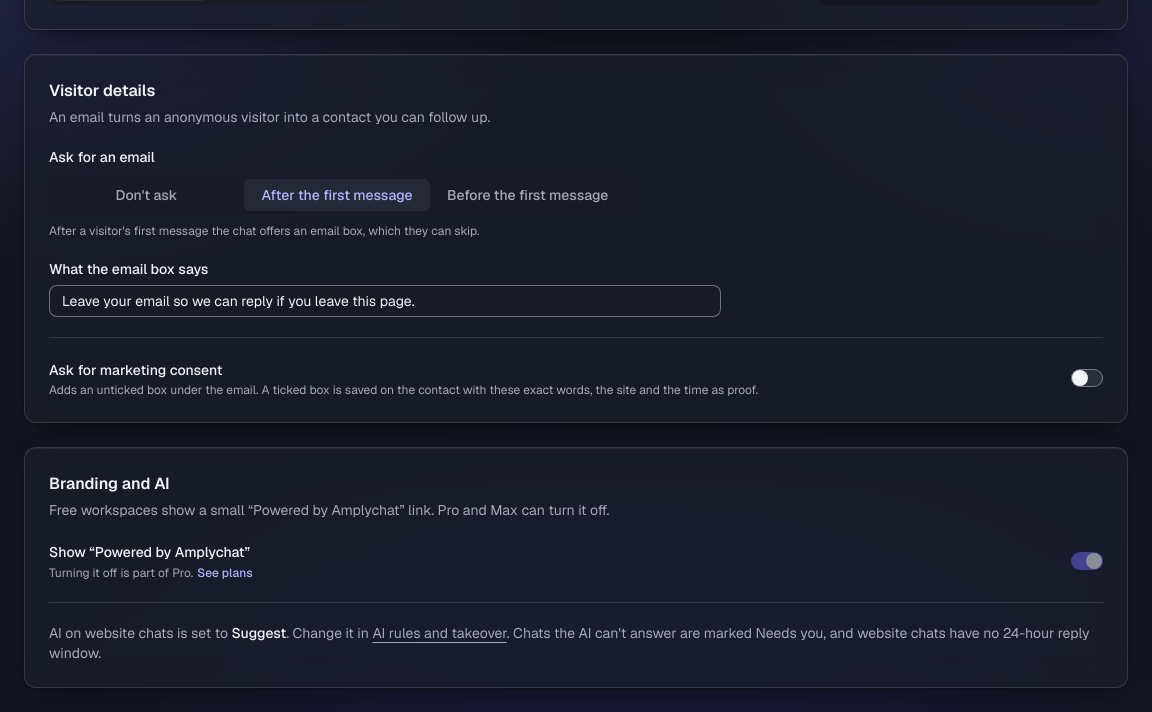
Test: WidgetSettingsPage (GR-28) › the consent words appear when marketing consent is asked
The width and height of the screenshot is (1152, 712).
(page scrolled)
Expected: the field labelled "Words next to the box" is not shown
Click the switch named "Ask for marketing consent" in the row of "Ask for marketing consent".
click(1087, 378)  # box [1071,369,1103,387]
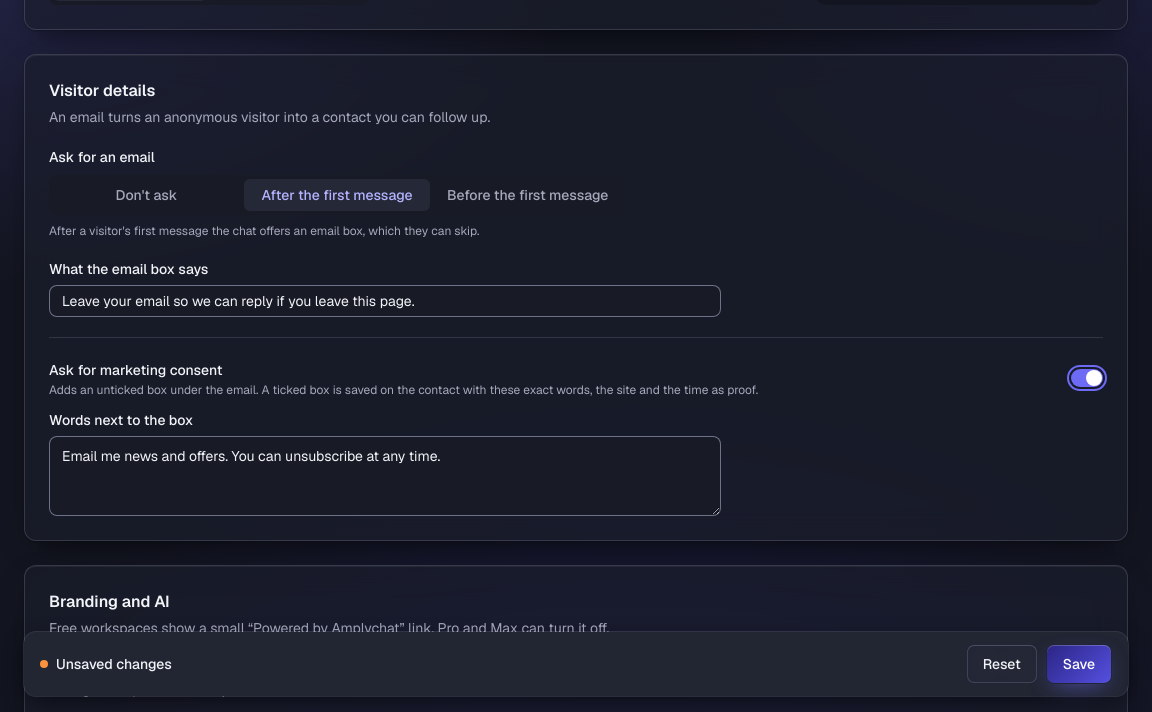
Expected: the text box labelled "Words next to the box" holds "Email me news and offers. You can unsubscribe at any time.", [49,436,721,516]
